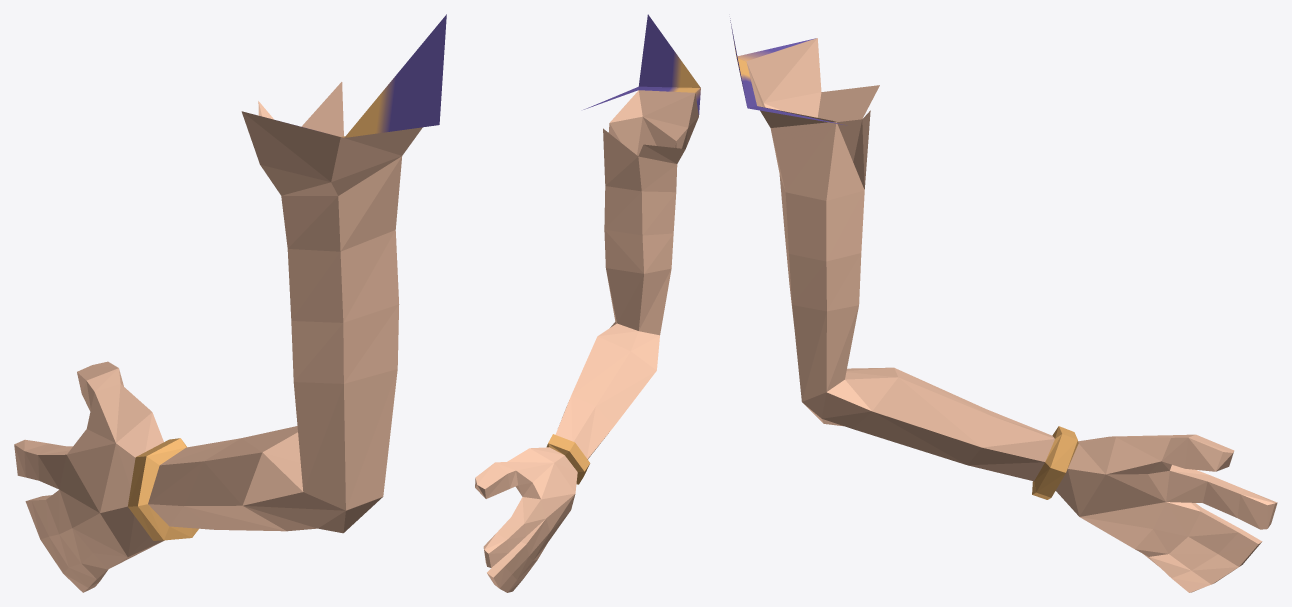
Rendered from Mother_02_ArmL_66.obj.
The picture shows the model from 3 angles, left to right: view 1: azimuth 30°, elevation 25°; view 2: azimuth 150°, elevation 25°; view 3: azimuth 270°, elevation 25°; orthographic projection. The views are drawn at different scales.
Visible parts, largest first — view 1: Mother_02_ArmL_66; view 2: Mother_02_ArmL_66; view 3: Mother_02_ArmL_66.
Part boxes in pixels (x1,y1,x2,y2): Mother_02_ArmL_66: (14,14,446,592); Mother_02_ArmL_66: (475,14,700,592); Mother_02_ArmL_66: (730,18,1277,592).
Size of the model in its own units: 0.1784 by 0.7037 by 0.5808.
Materials: 1 (1 with a texture image).
